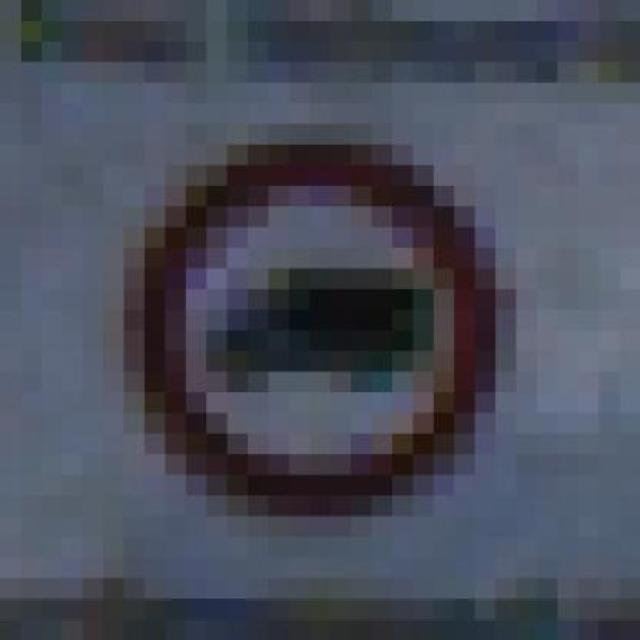Truck traffic is prohibited: (103, 123, 537, 537)
